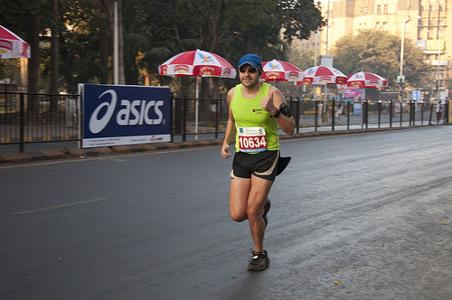person: (221, 53, 299, 273)
